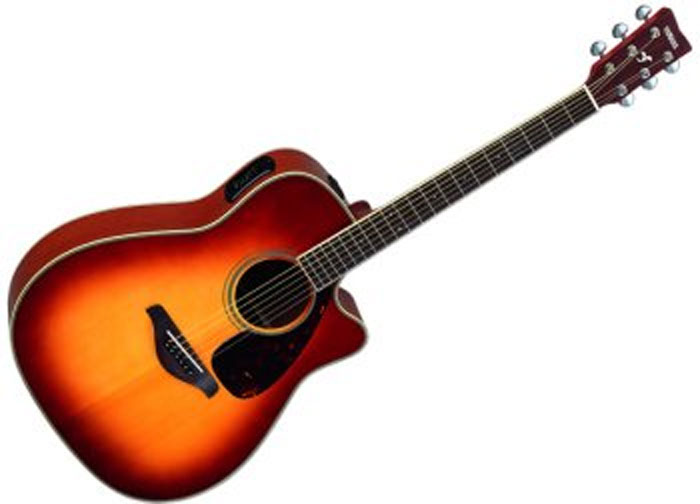guitar: (5, 8, 693, 504)
